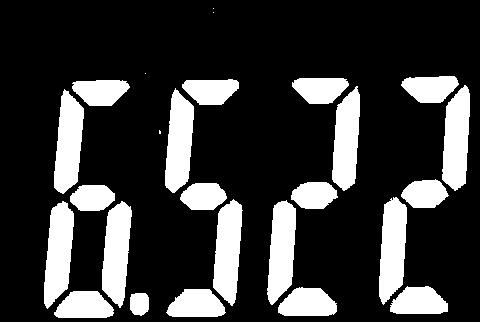2: (269, 73, 365, 317), (378, 72, 472, 317)
5: (163, 70, 248, 320)
6: (41, 70, 134, 320)
dot: (127, 288, 153, 318)
